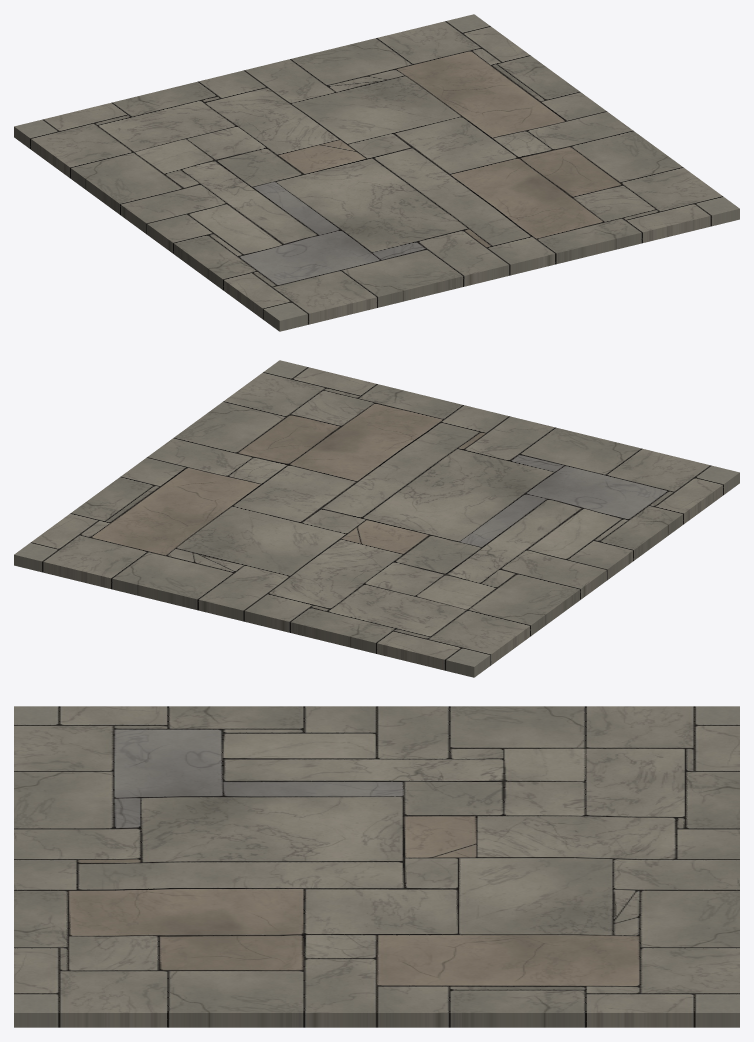
The model's file is cathedral_floor_a.glb.
3 views of the same model, one above another, from view 1: azimuth 30°, elevation 25°; view 2: azimuth 150°, elevation 25°; view 3: azimuth 270°, elevation 25° (orthographic). The views are drawn at different scales.
Visible parts, largest first — view 1: cathedral_floor_a; view 2: cathedral_floor_a; view 3: cathedral_floor_a.
Part boxes in pixels (bbox=[...]): cathedral_floor_a: bbox=[14, 14, 739, 331]; cathedral_floor_a: bbox=[14, 360, 739, 677]; cathedral_floor_a: bbox=[14, 706, 739, 1027].
Bounding box in the file's own units: 4 × 0.1027 × 4.
1 material, 1 textured.
